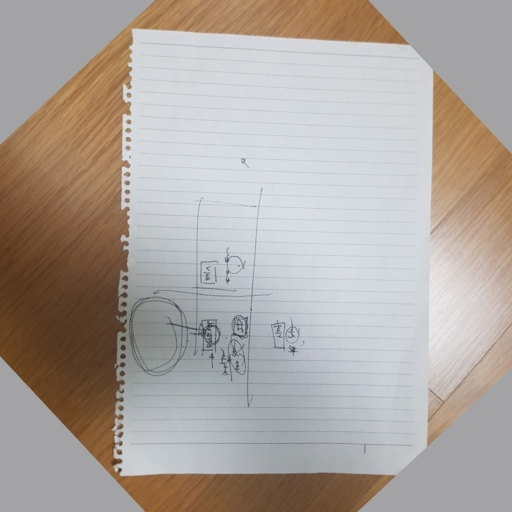Paper_2: (111, 24, 445, 483)
